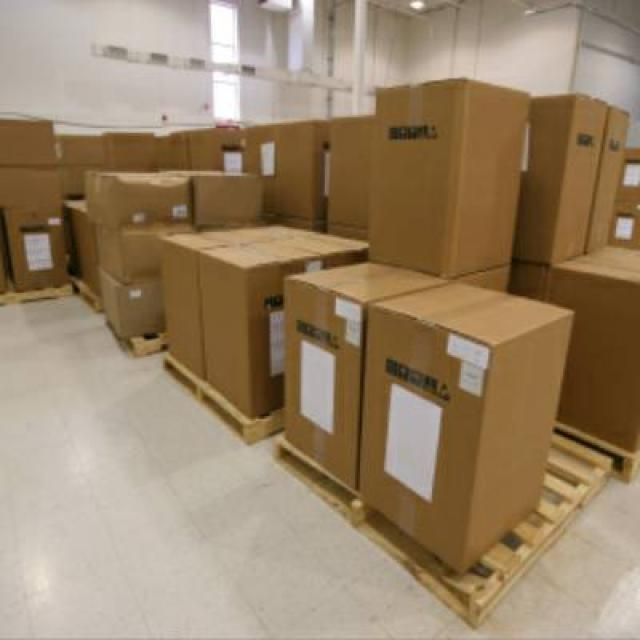box: (363, 272, 551, 572), (157, 218, 359, 422), (274, 257, 418, 473), (362, 92, 536, 266), (72, 167, 188, 227)
